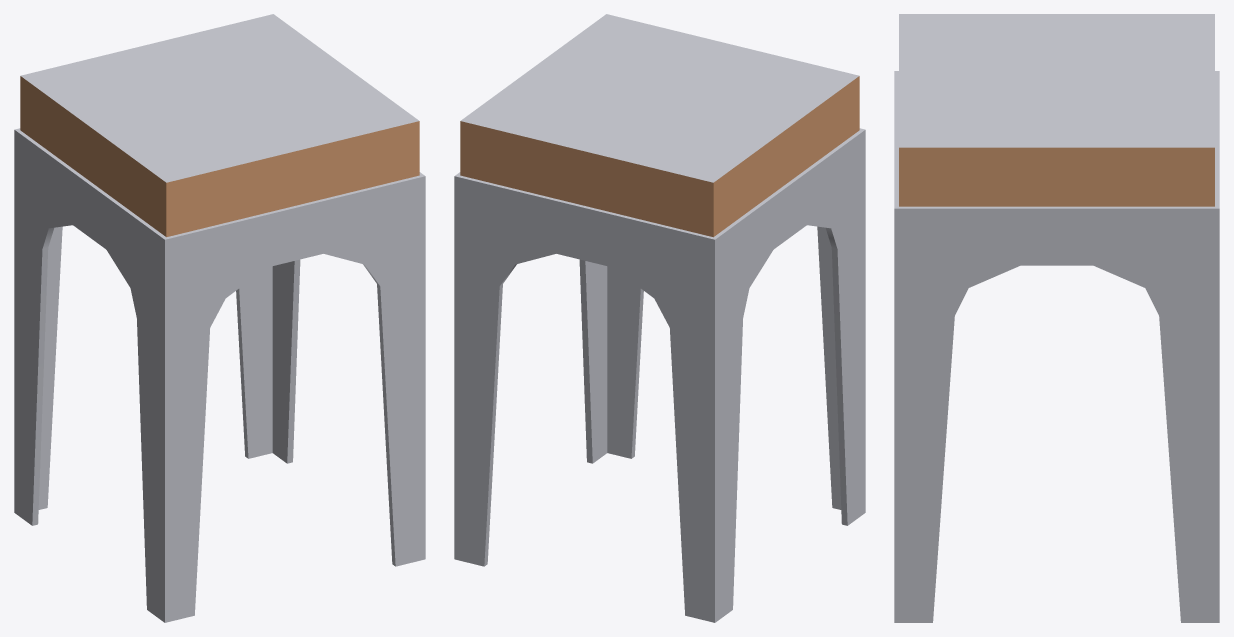
File: Chair.fbx
3 renders of one model, left to right at view 1: azimuth 30°, elevation 25°; view 2: azimuth 150°, elevation 25°; view 3: azimuth 270°, elevation 25°, orthographic. The views are drawn at different scales.
Parts seen in each view (by area): view 1: Stool_Chair; view 2: Stool_Chair; view 3: Stool_Chair.
Boxes of the visible parts, x1,y1,x2,y2 form: Stool_Chair: (14,14,425,622); Stool_Chair: (454,14,865,622); Stool_Chair: (894,14,1219,622).
Bounding box in the file's own units: 1.22 × 1.96 × 1.22.
